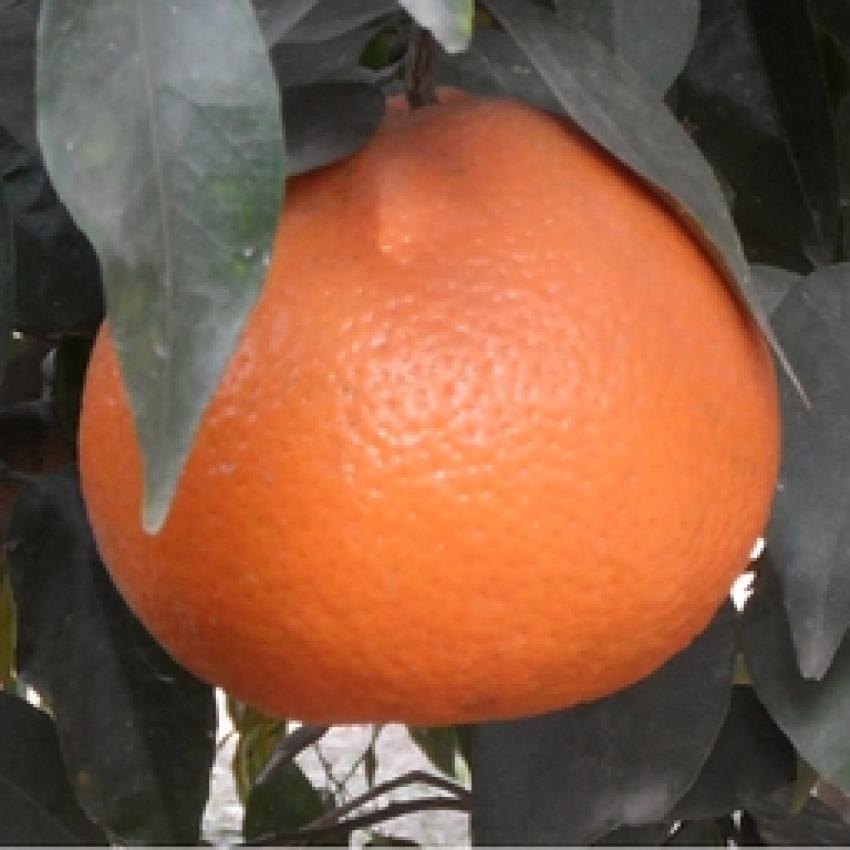Buen estado: (49, 64, 788, 738)
